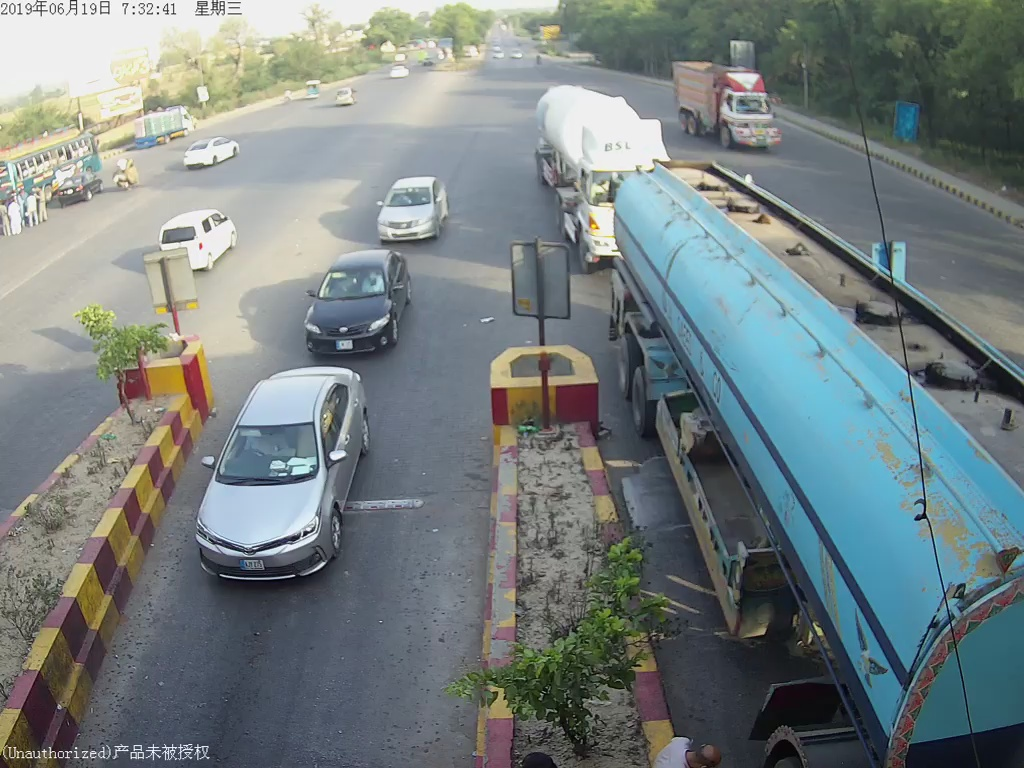Cat-1: (214, 363, 370, 568), (297, 251, 417, 352), (375, 169, 451, 246)
